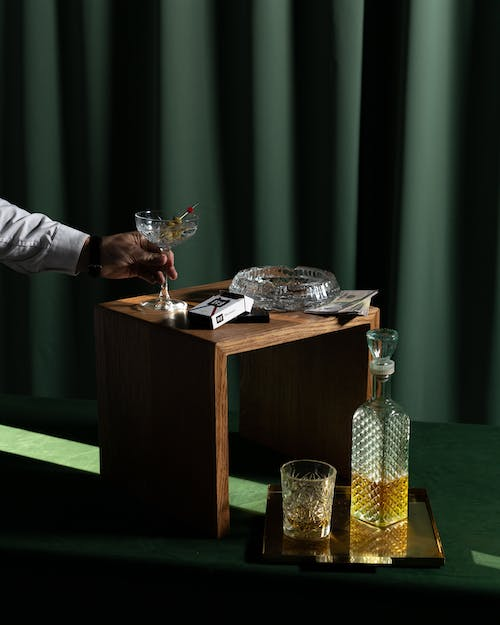alcohol: (346, 359, 412, 527), (133, 209, 201, 316), (278, 456, 337, 542)
cigarette: (183, 287, 255, 332)
